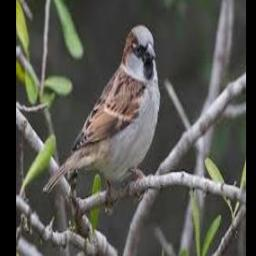Sparrow: (43, 25, 161, 195)
